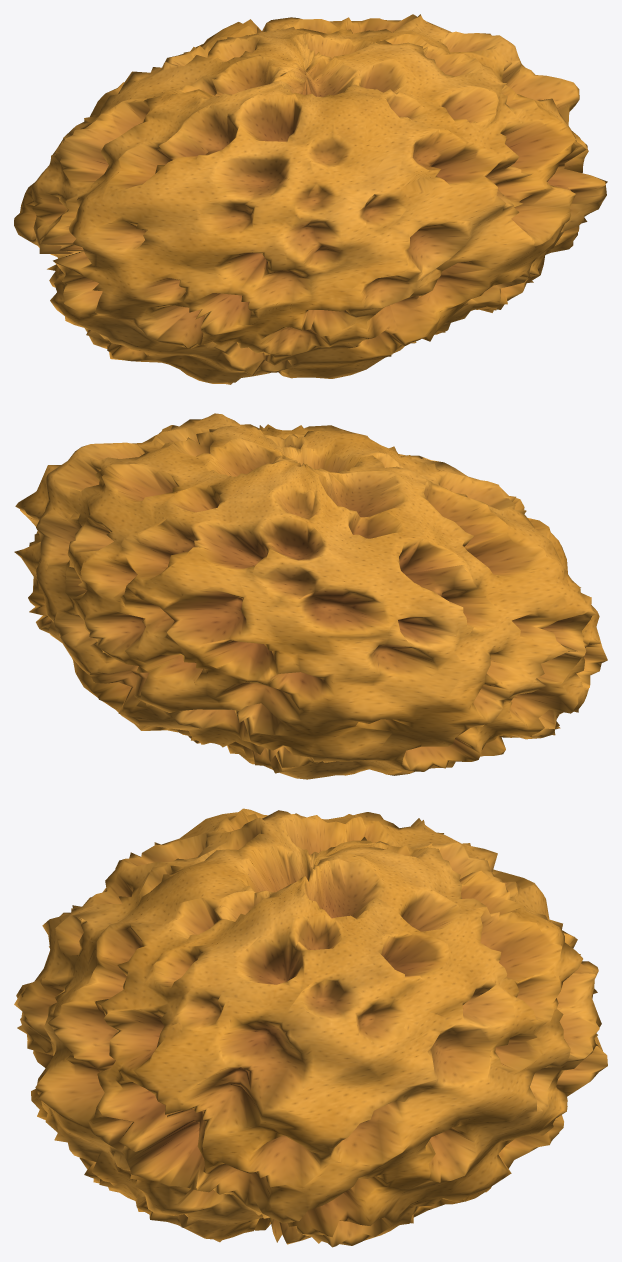
The model's file is golden-sponge.glb.
3 renders of one model, top to bottom at view 1: azimuth 30°, elevation 25°; view 2: azimuth 150°, elevation 25°; view 3: azimuth 270°, elevation 25°, orthographic. The views are drawn at different scales.
Visible parts, largest first — view 1: Continuous open-pore sponge surface; view 2: Continuous open-pore sponge surface; view 3: Continuous open-pore sponge surface.
Boxes of the visible parts, x1,y1,x2,y2 form: Continuous open-pore sponge surface: [14, 14, 607, 384]; Continuous open-pore sponge surface: [14, 413, 607, 779]; Continuous open-pore sponge surface: [14, 808, 607, 1247].
Bounding box in the file's own units: 0.2982 × 0.1376 × 0.2365.
1 material, 1 textured.
